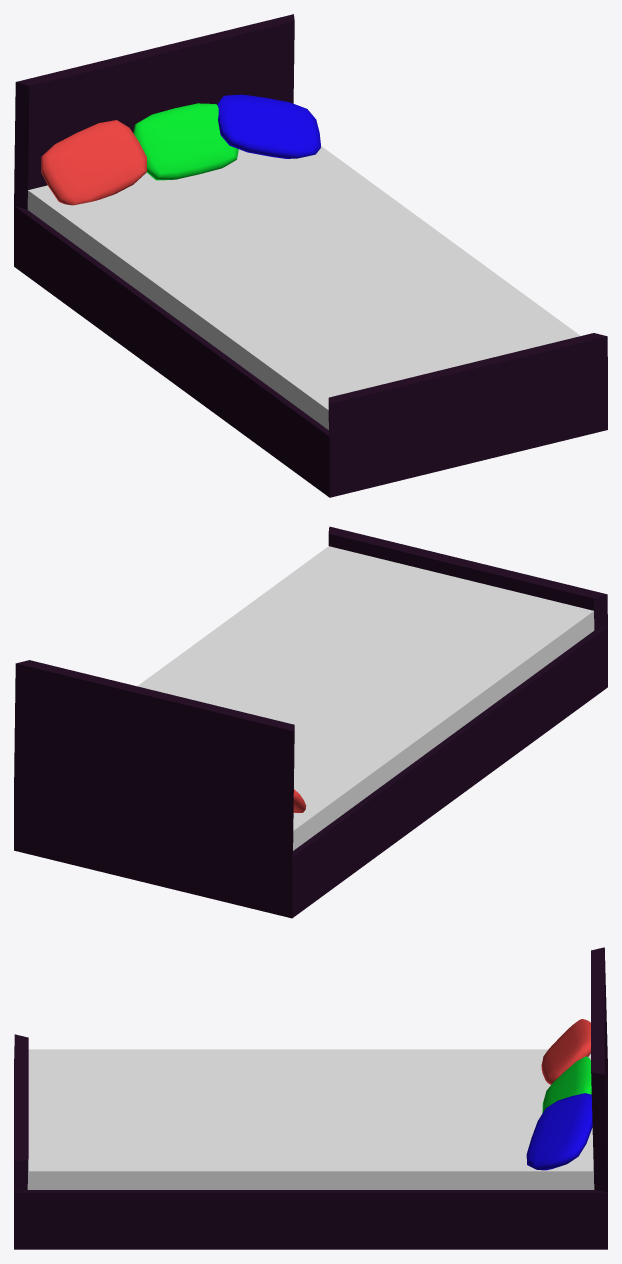
Rendered from Bed.fbx.
3 views of the same model, one above another, from view 1: azimuth 30°, elevation 25°; view 2: azimuth 150°, elevation 25°; view 3: azimuth 270°, elevation 25° (orthographic). The views are drawn at different scales.
Parts seen in each view (by area): view 1: Cube; view 2: Cube; view 3: Cube.
Part boxes in pixels (x1,y1,x2,y2): Cube: (14, 14, 607, 497); Cube: (14, 526, 607, 918); Cube: (14, 947, 607, 1249).
Bounding box in the file's own units: 561 × 357 × 1100.
